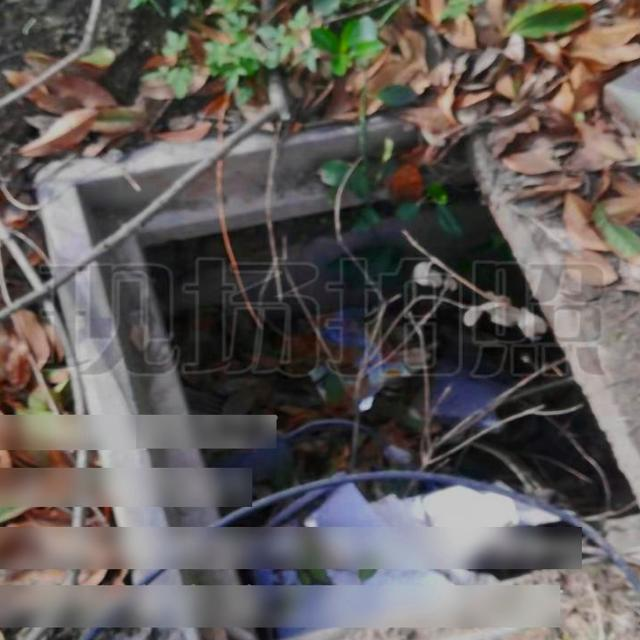lose: (31, 104, 640, 640)
